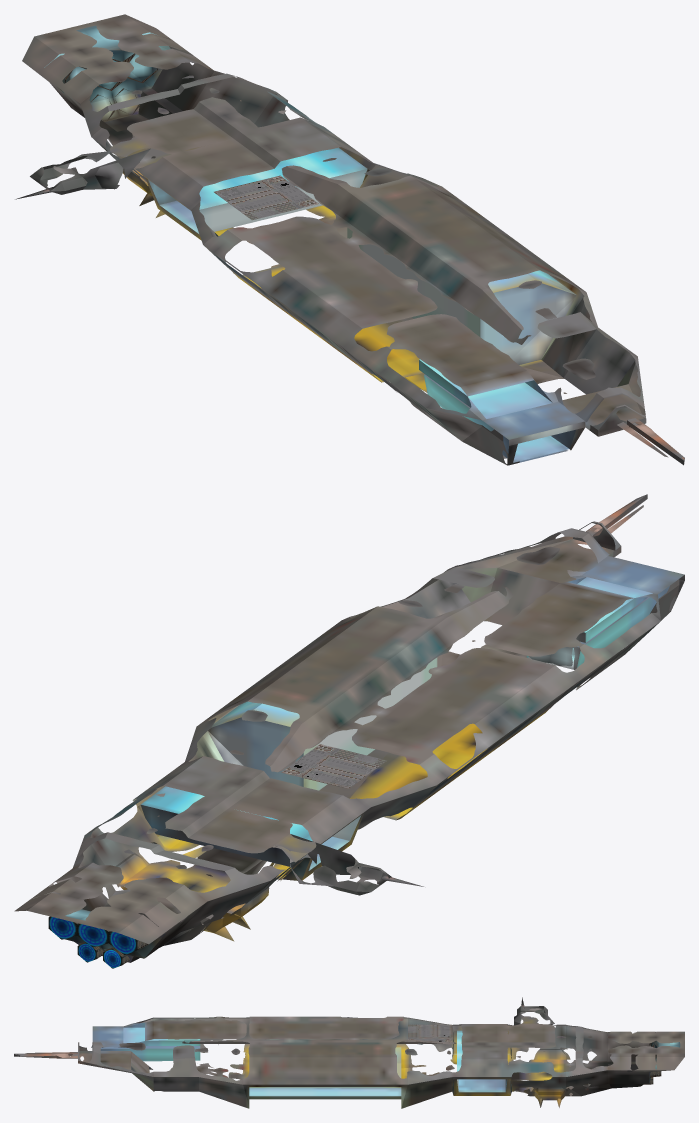
3 views of the same model, one above another, from view 1: azimuth 30°, elevation 25°; view 2: azimuth 150°, elevation 25°; view 3: azimuth 270°, elevation 25° (orthographic). The views are drawn at different scales.
Visible parts, largest first — view 1: hw2Shader, Hgn_Carrier_Badge; view 2: hw2Shader, Hgn_Carrier_Badge, Hgn_Carrier_Engine_TEX; view 3: hw2Shader, Hgn_Carrier_Badge.
Part boxes in pixels (x1=…): hw2Shader: x1=15, y1=14, x2=684, y2=465; Hgn_Carrier_Badge: x1=214, y1=175, x2=318, y2=220; hw2Shader: x1=14, y1=494, x2=684, y2=962; Hgn_Carrier_Badge: x1=281, y1=744, x2=387, y2=788; Hgn_Carrier_Engine_TEX: x1=48, y1=916, x2=137, y2=968; hw2Shader: x1=14, y1=997, x2=684, y2=1108; Hgn_Carrier_Badge: x1=408, y1=1024, x2=452, y2=1042.
Bounding box in the file's own units: 248 × 74.66 × 770.
